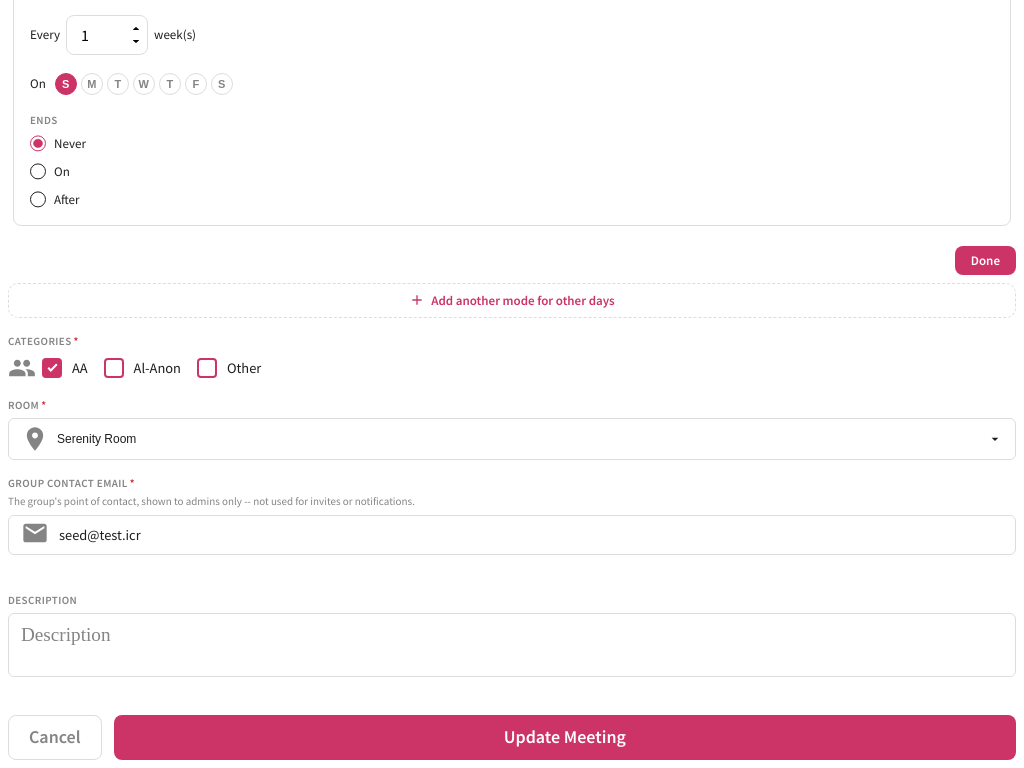
Test: EditMeetingSidebar recurring-scope re-anchoring › post-save poll target › unscoped ('all') save: still polls the parent, unchanged -- a real Zoom failure still toasts
The image size is (1024, 768).
(page scrolled)
Click the button "Update Meeting": (565, 738) [114,715,1016,760]
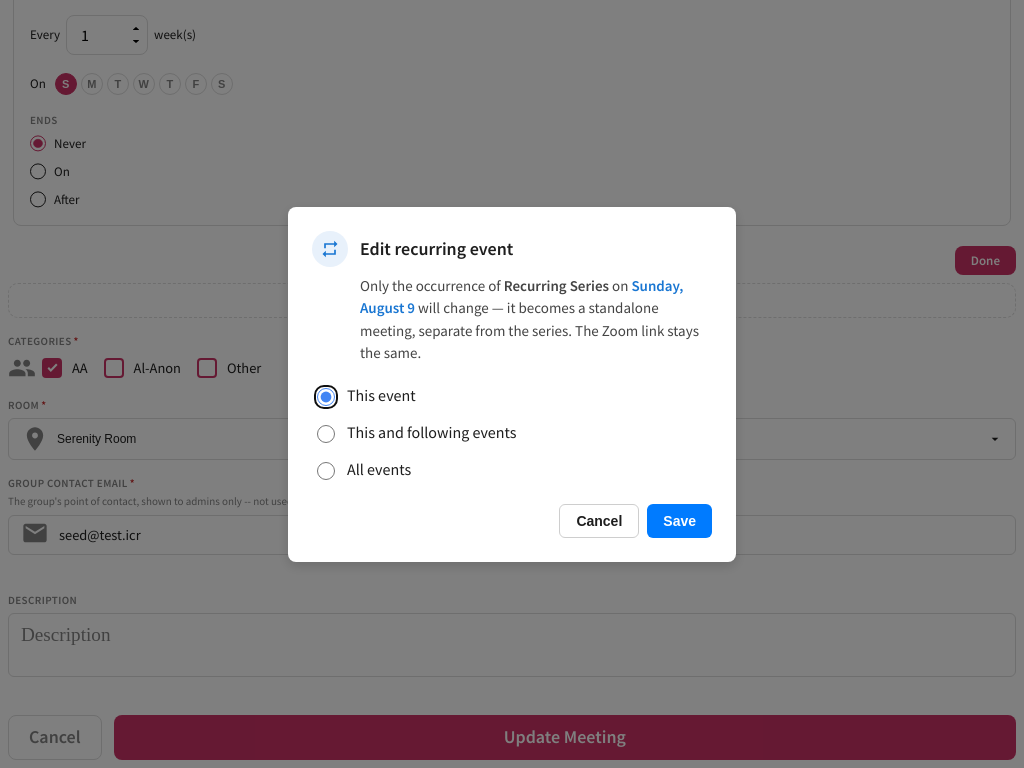
Click the radio button labelled "All events": (326, 470) [317,462,335,480]
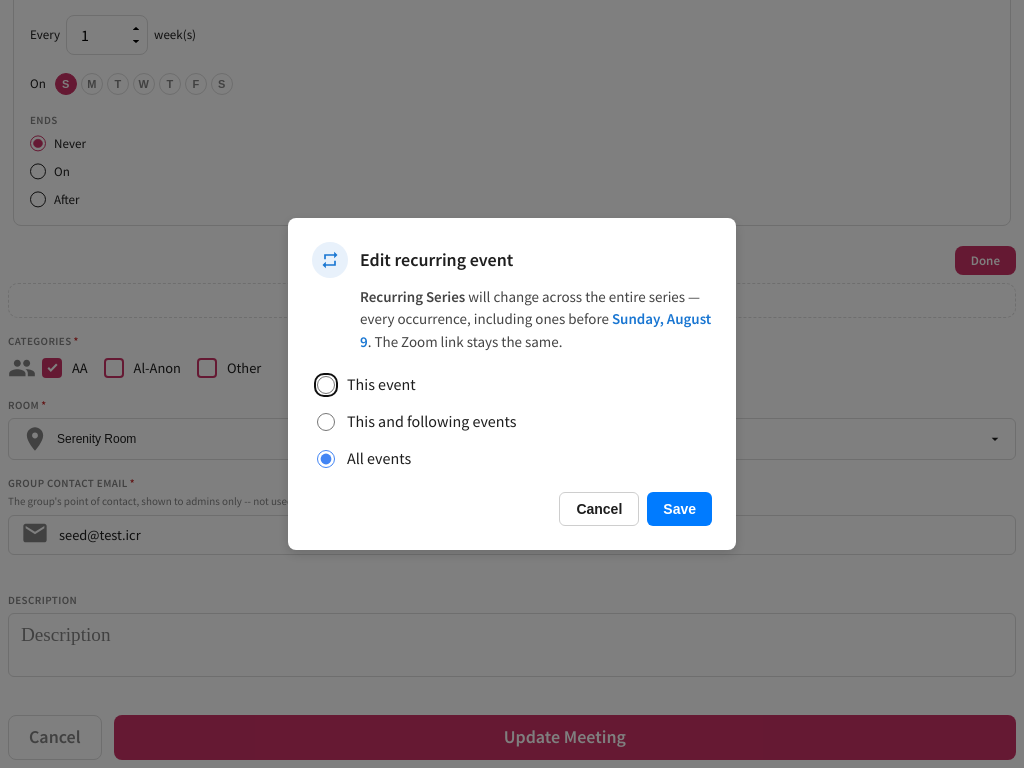
Click the button "Save": (680, 509) [647,492,712,526]
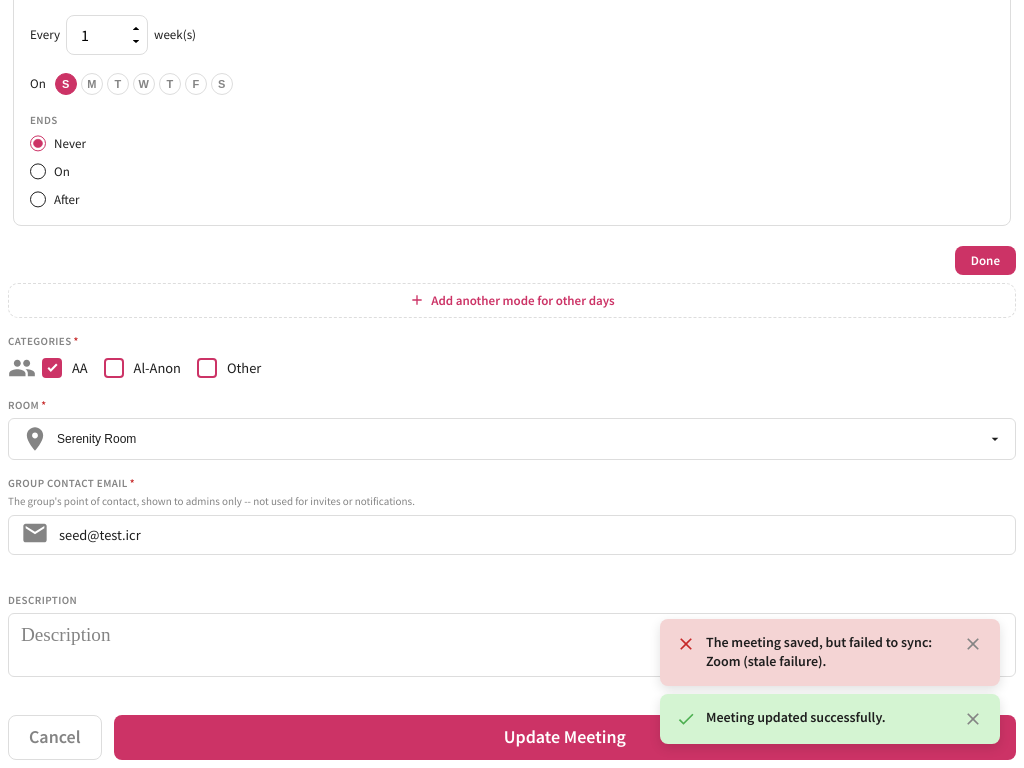
Check: the text "The meeting saved, but failed to sync: Zoom (stale failure)." is shown, box [706,633,952,672]
